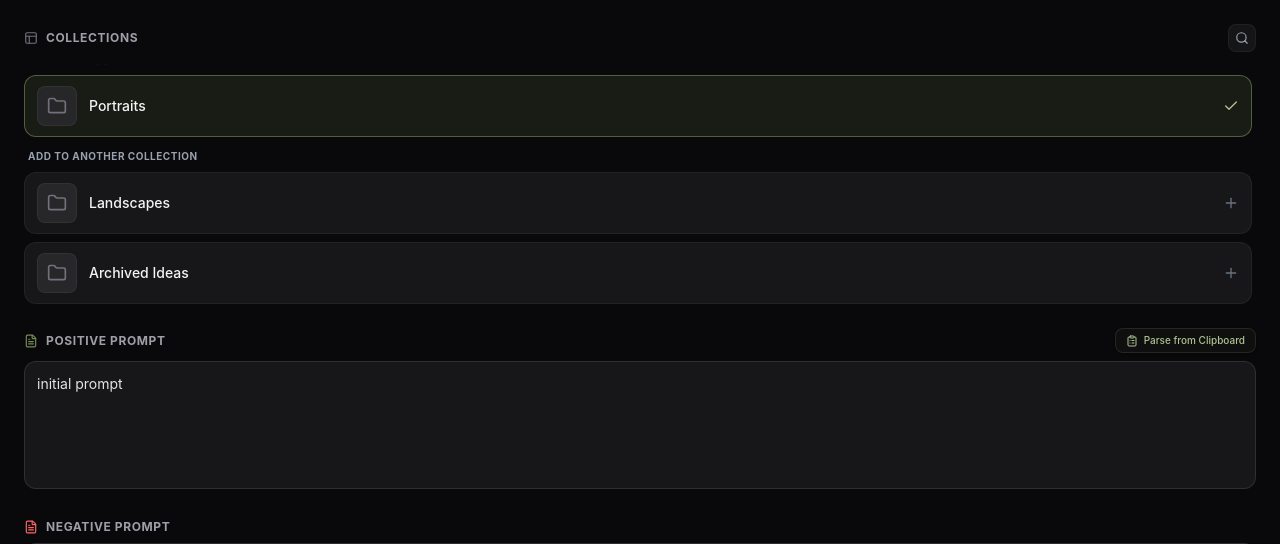
MetadataEditTab › filters both membership groups and resets the result list scroll position
The width and height of the screenshot is (1280, 544).
(page scrolled)
Expected: the button "Portraits" is enabled, x1=24 y1=75 x2=1252 y2=137
Click the button named "Search Collections" at (1242, 38), box x1=1228 y1=24 x2=1256 y2=52
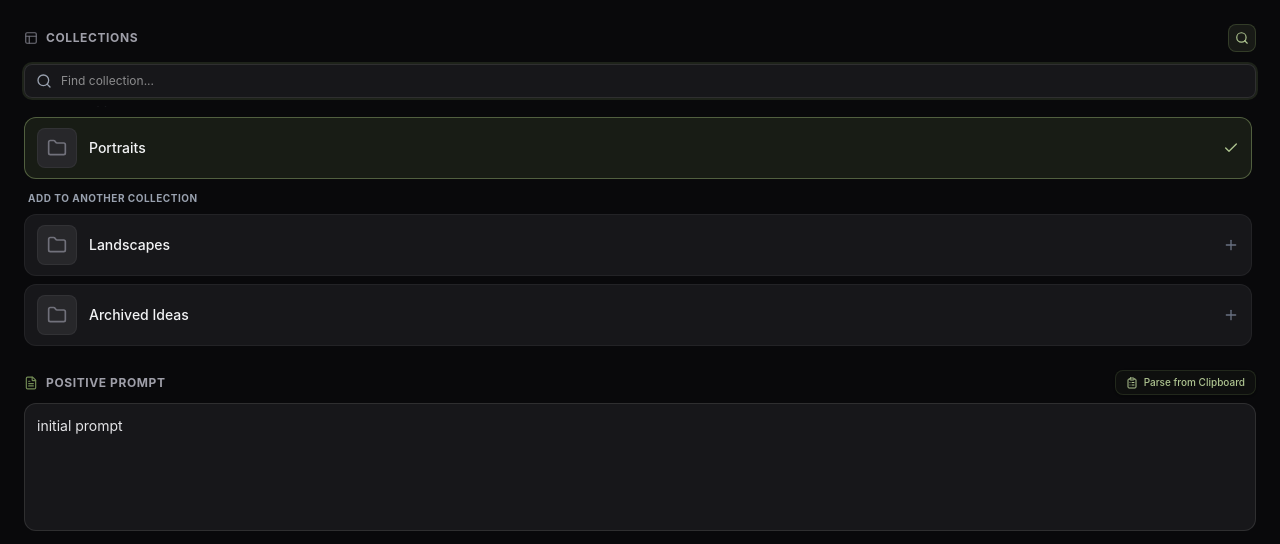
Type "port" into the search field labelled "Find collection" at (640, 81), box x1=24 y1=64 x2=1256 y2=98
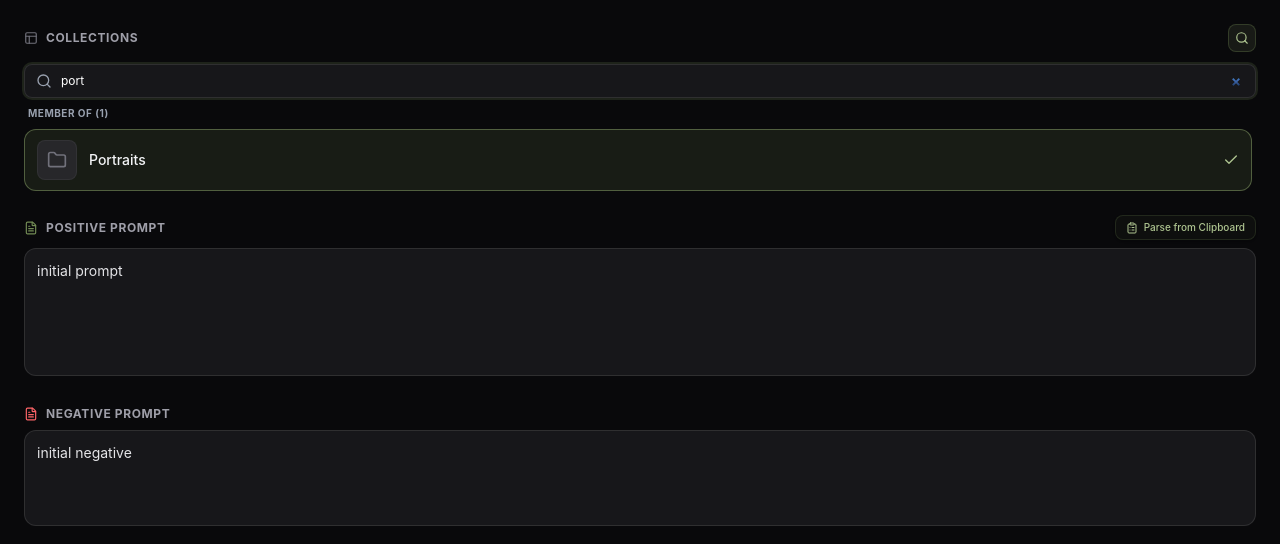
Expected: the text "Member of (1)" is shown, x1=28 y1=107 x2=109 y2=119
Expected: the text "Add to another collection" is gone
